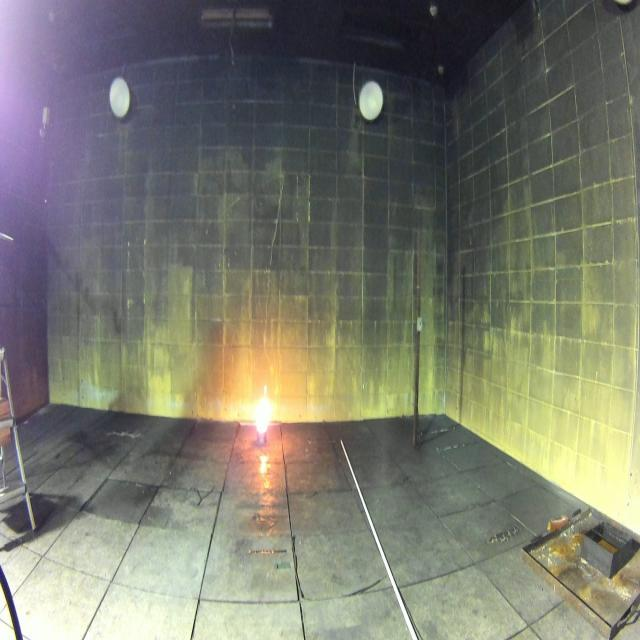Fire: (256, 385, 270, 433)
